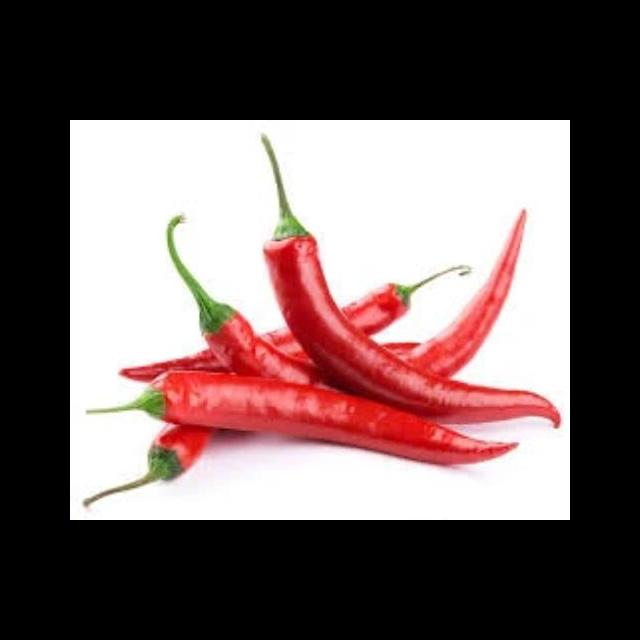chili_pepper: (264, 235, 560, 427), (153, 371, 515, 464), (166, 216, 324, 385)
